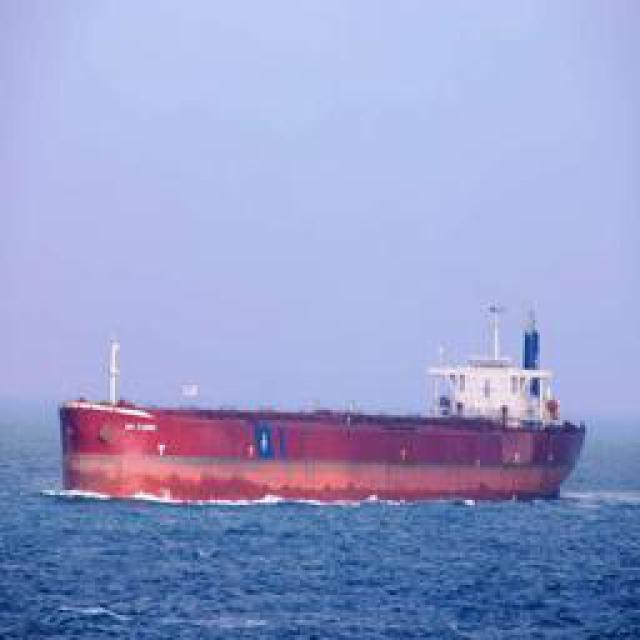Ship: (60, 303, 585, 508)
